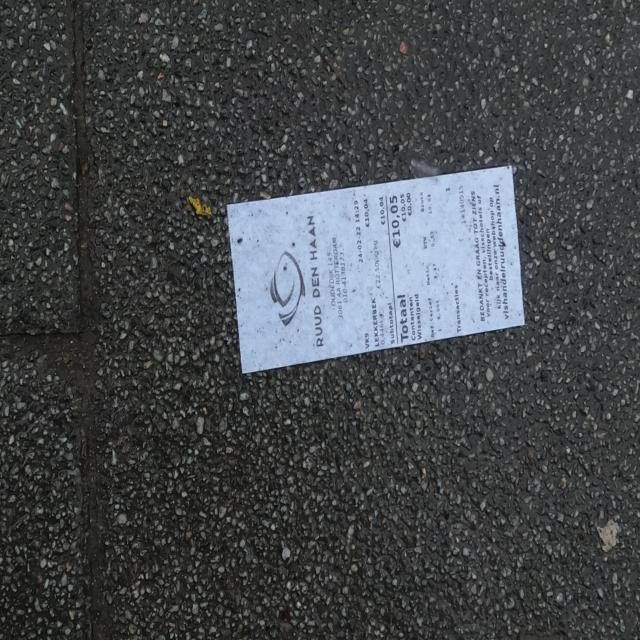Paper: (223, 162, 526, 378)
